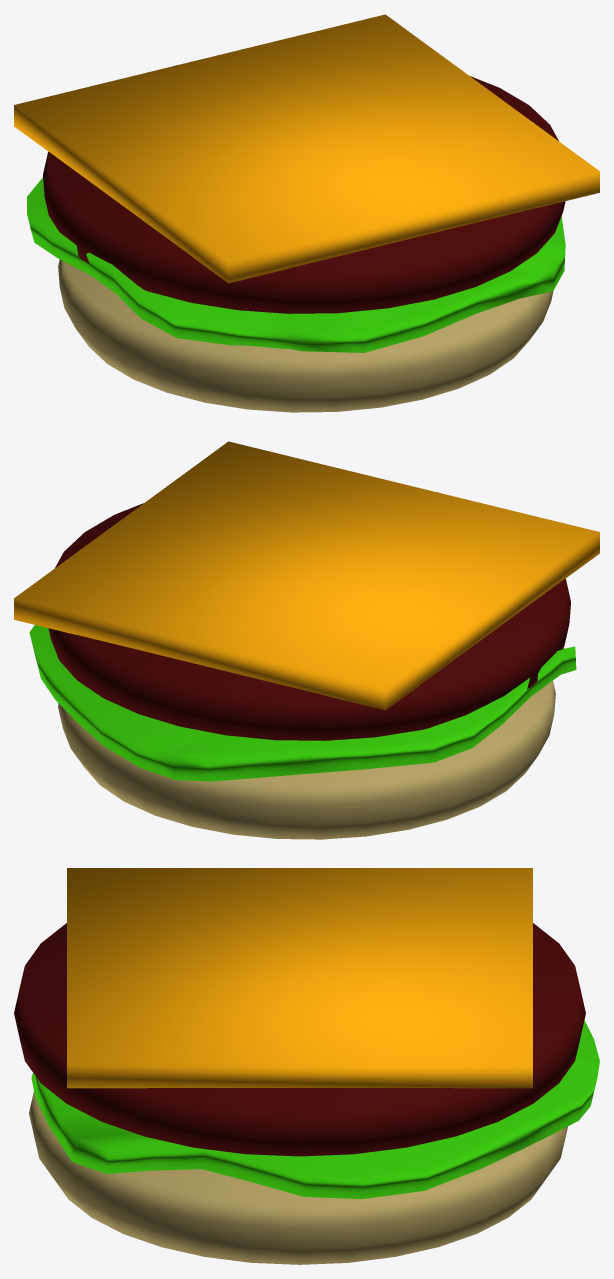
Rendered from Burger3.fbx.
3 renders of one model, top to bottom at view 1: azimuth 30°, elevation 25°; view 2: azimuth 150°, elevation 25°; view 3: azimuth 270°, elevation 25°, orthographic. The views are drawn at different scales.
Parts seen in each view (by area): view 1: Plane, Sphere, Sphere.002, Cylinder; view 2: Plane, Sphere.002, Sphere, Cylinder; view 3: Plane, Sphere.002, Sphere, Cylinder.
Part boxes in pixels (x1,y1,x2,y2): Plane: (14,14,599,283); Sphere: (58,259,553,412); Sphere.002: (43,76,565,313); Cylinder: (27,177,565,352); Plane: (14,441,599,710); Sphere.002: (48,503,570,740); Sphere: (58,681,555,839); Cylinder: (29,625,576,781); Plane: (67,868,532,1088); Sphere.002: (14,923,585,1156); Sphere: (29,1092,567,1264); Cylinder: (31,1020,599,1198).
Bounding box in the file's own units: 213 × 78.36 × 216.
